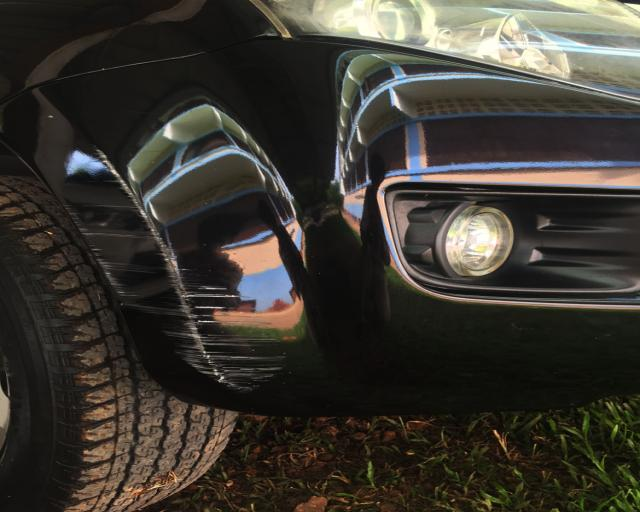scratch: (67, 144, 286, 391)
